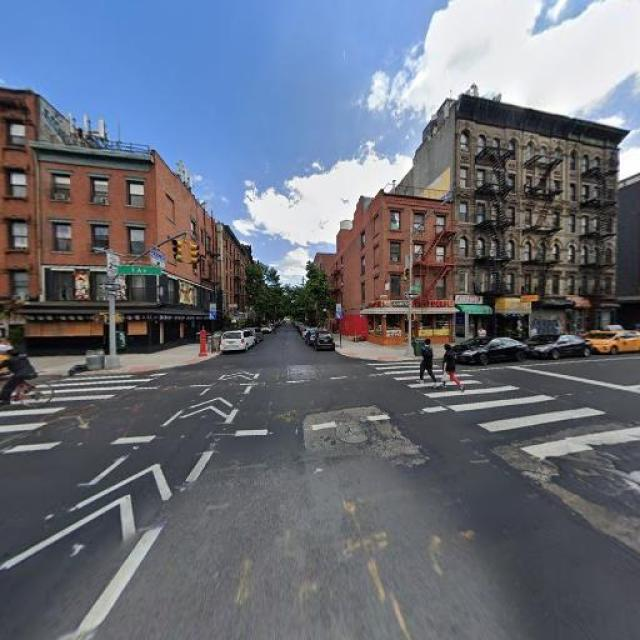Building: (40, 145, 219, 360), (337, 193, 452, 347), (455, 103, 517, 344), (522, 115, 569, 342), (1, 100, 33, 362), (575, 127, 612, 342)
